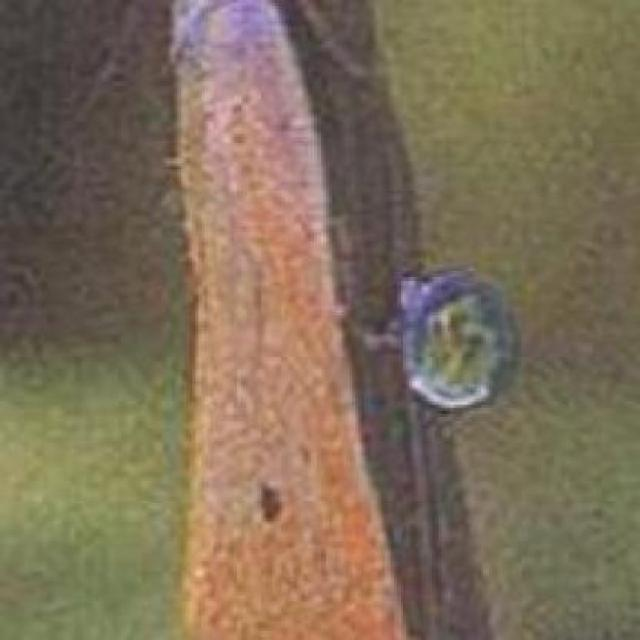stem-borer: (172, 0, 392, 640)
